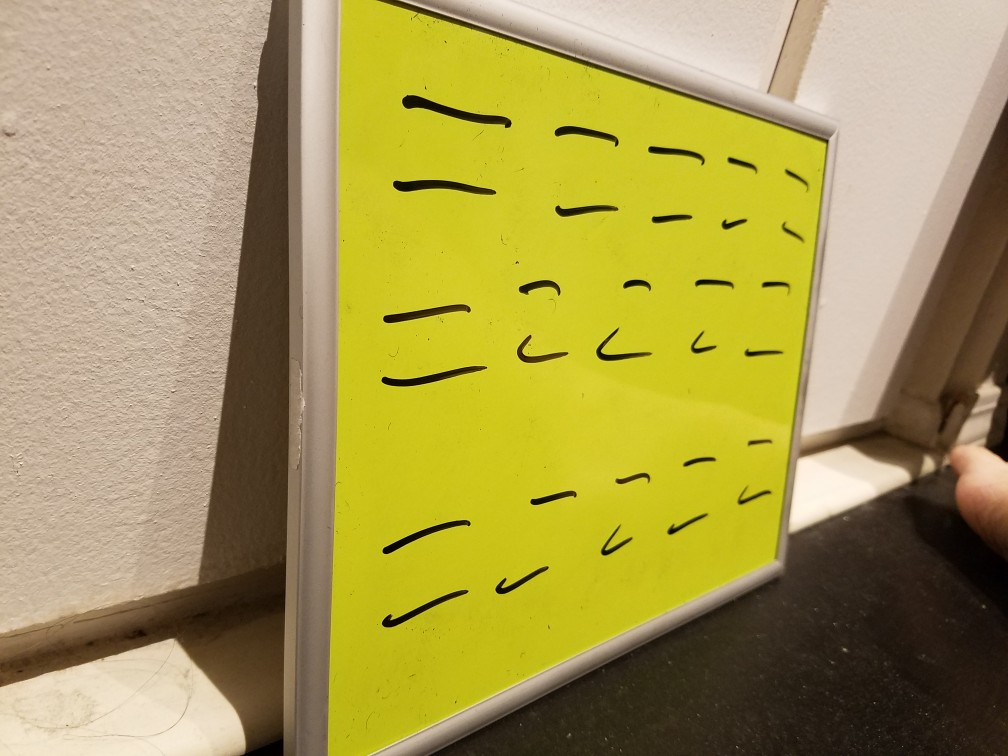=: (370, 59, 523, 232), (364, 487, 485, 635), (362, 281, 495, 400), (492, 469, 588, 612), (575, 246, 674, 376), (536, 105, 632, 235), (504, 260, 586, 391), (582, 454, 659, 573), (660, 442, 730, 556), (636, 133, 710, 236), (741, 270, 800, 379), (685, 264, 741, 371), (710, 142, 765, 246), (724, 427, 783, 518), (769, 152, 817, 259)
